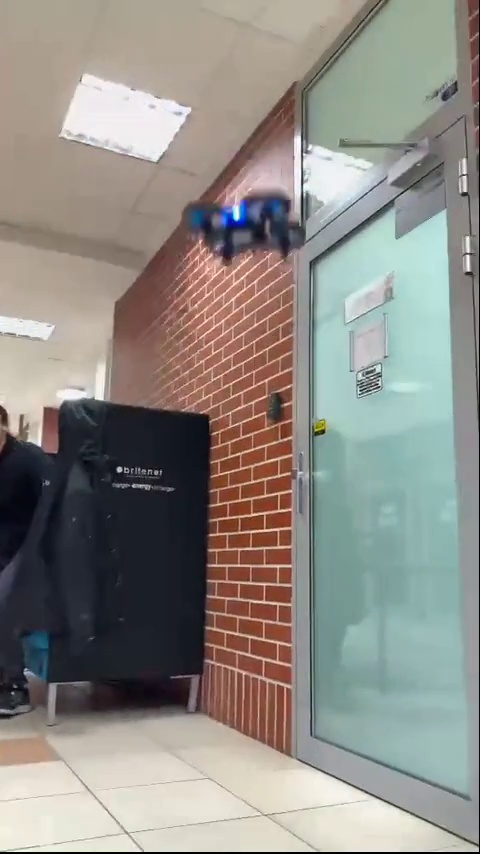drone: (183, 192, 319, 264)
